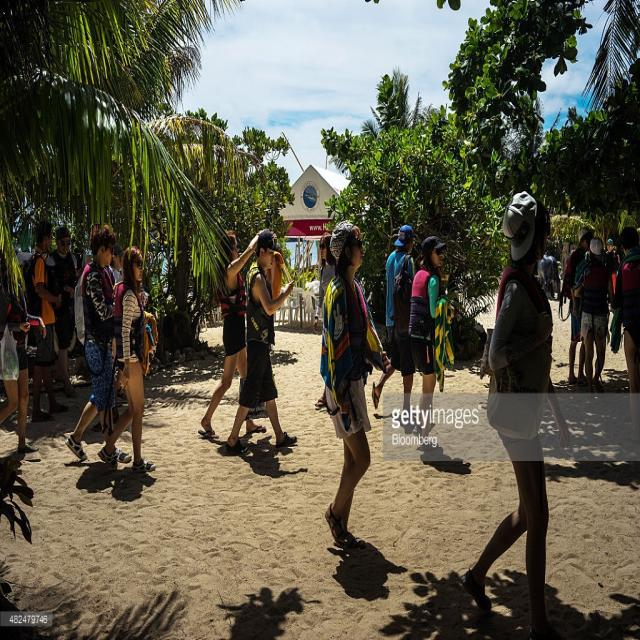body: (459, 185, 571, 630), (319, 217, 392, 552), (62, 221, 132, 471), (224, 230, 298, 454), (198, 228, 268, 440), (98, 244, 158, 474), (408, 232, 453, 453), (372, 222, 419, 422), (0, 284, 46, 454), (27, 220, 64, 424), (608, 223, 640, 448), (45, 224, 84, 396), (573, 235, 613, 391), (331, 538, 412, 608), (564, 225, 594, 387), (60, 456, 160, 504), (205, 434, 309, 480), (314, 230, 338, 412), (420, 442, 476, 482), (606, 237, 621, 307), (107, 239, 124, 285), (540, 256, 560, 295)
